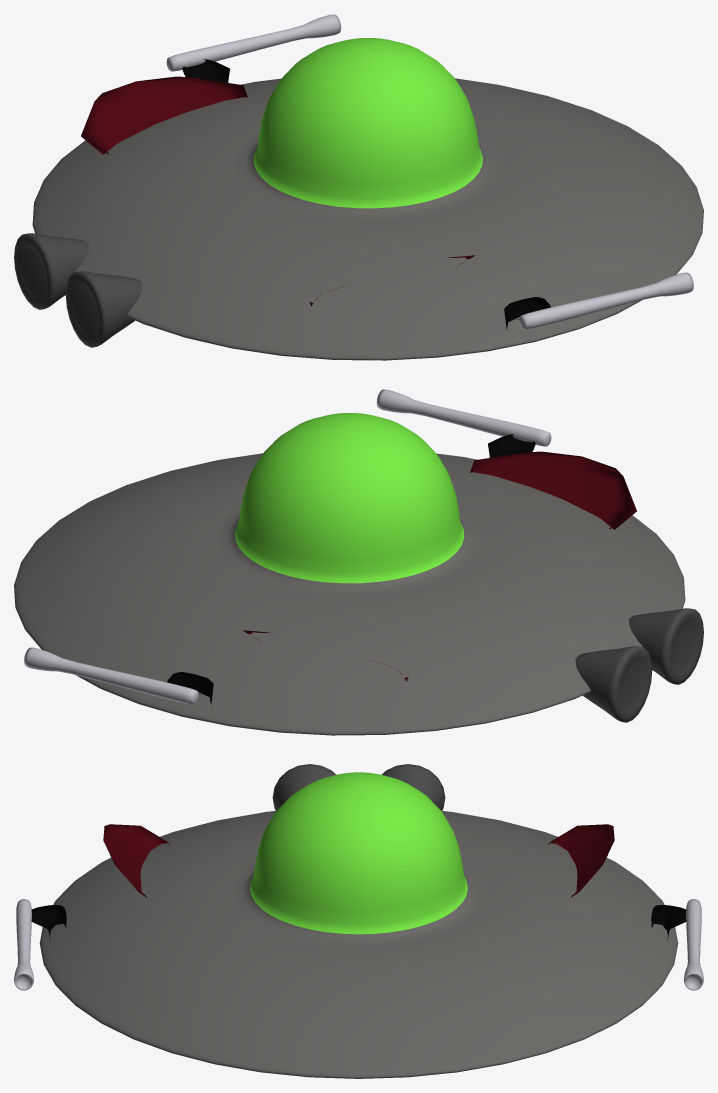
The model's file is EnemyShip.fbx.
The picture shows the model from 3 angles, top to bottom: view 1: azimuth 30°, elevation 25°; view 2: azimuth 150°, elevation 25°; view 3: azimuth 270°, elevation 25°; orthographic projection. The views are drawn at different scales.
Parts seen in each view (by area): view 1: Cone; view 2: Cone; view 3: Cone.
Boxes of the visible parts, box(x1,y1,x2,y2) form: Cone: box(14, 14, 703, 360); Cone: box(14, 389, 703, 735); Cone: box(14, 764, 703, 1078).
Size of the model in its own units: 1853 by 623 by 1939.
